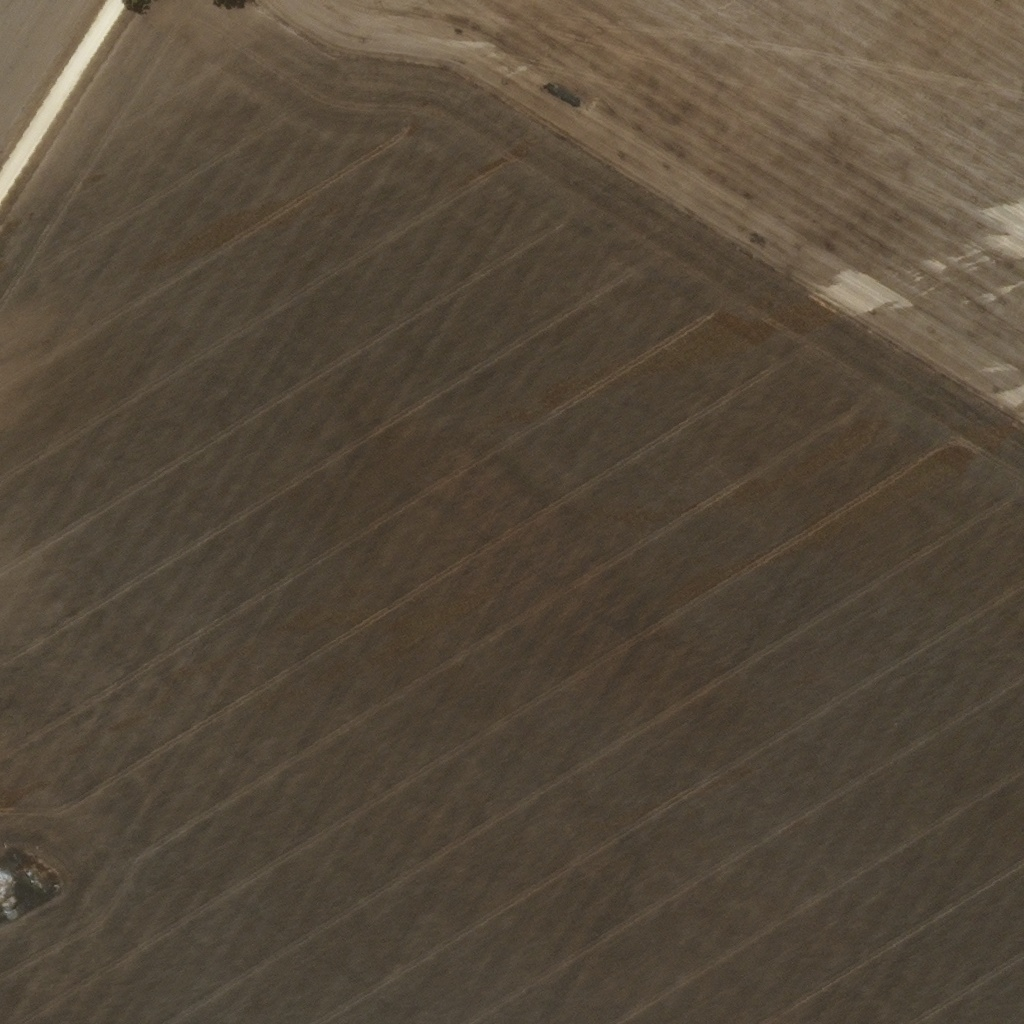1 minor-damage: (24, 870, 31, 877)
